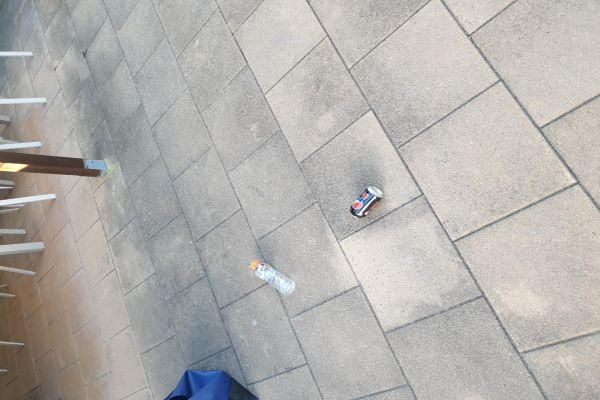Plastic Bottle: (249, 259, 297, 296), (349, 186, 383, 220)
